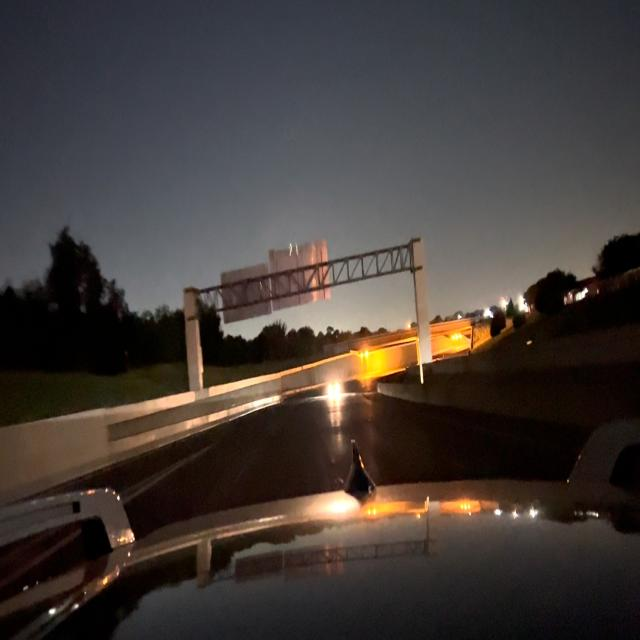back-of-sign: (272, 244, 334, 312), (221, 264, 273, 324)
